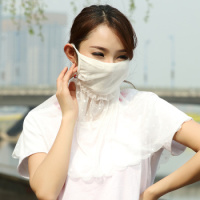face_mask: (77, 33, 129, 101)
